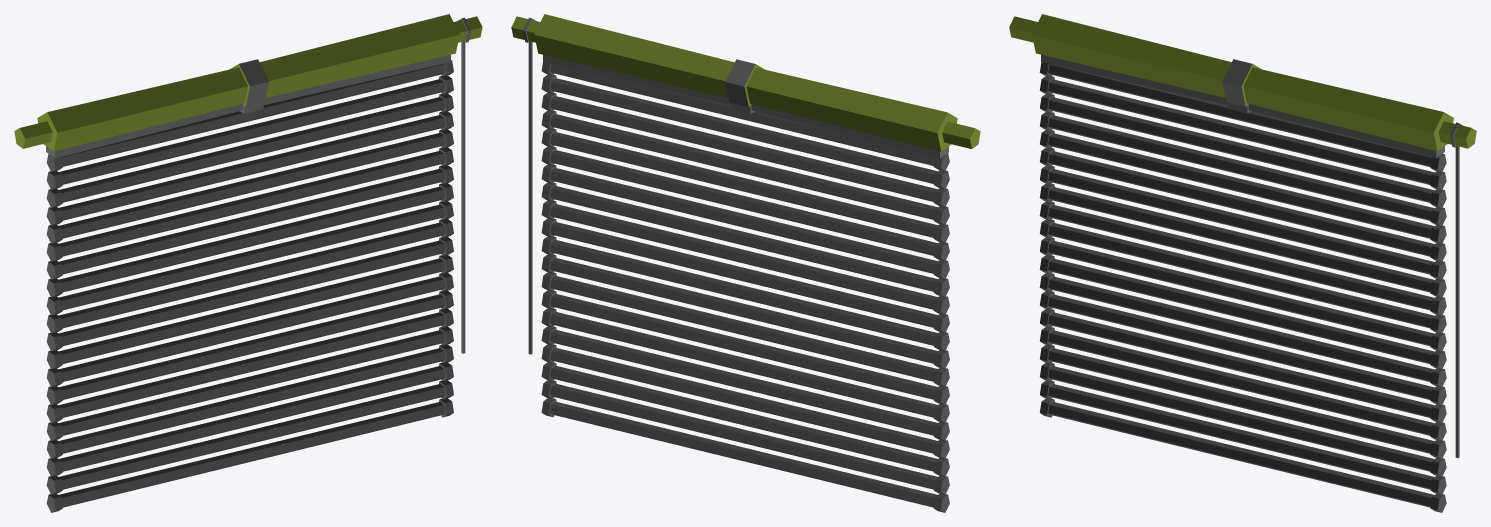
Rendered from Window Blind.fbx.
The picture shows the model from 3 angles, left to right: view 1: azimuth 30°, elevation 25°; view 2: azimuth 150°, elevation 25°; view 3: azimuth 330°, elevation 25°; orthographic projection.
Visible parts, largest first — view 1: Node 0; view 2: Node 0; view 3: Node 0.
Boxes of the visible parts, x1,y1,x2,y2 form: Node 0: [14, 14, 482, 512]; Node 0: [511, 14, 980, 512]; Node 0: [1009, 14, 1476, 512].
Bounding box in the file's own units: 0.0663 × 0.665 × 0.7908.
